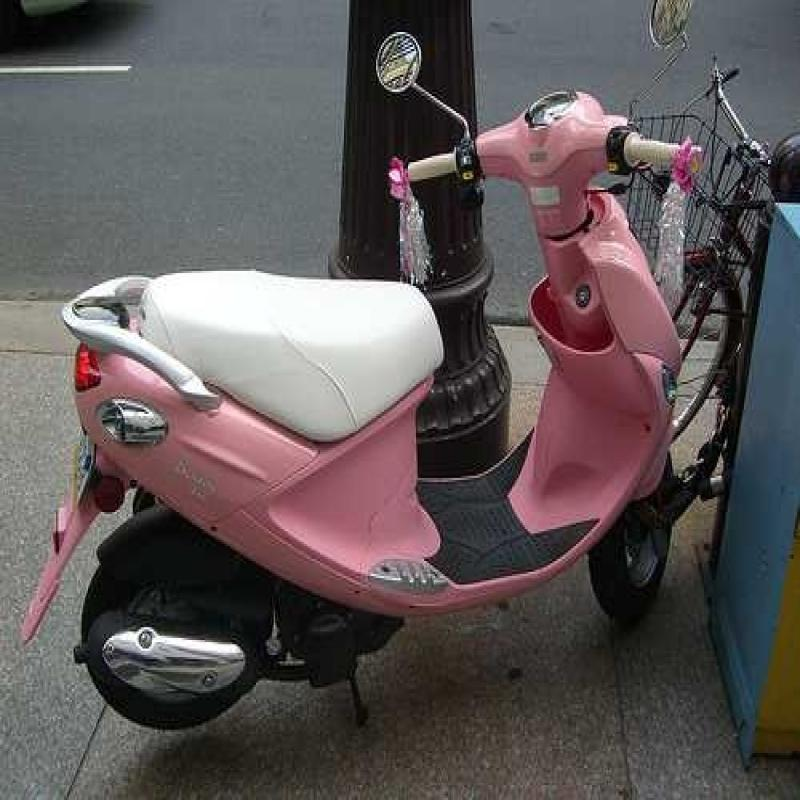bike: (87, 50, 702, 713)
